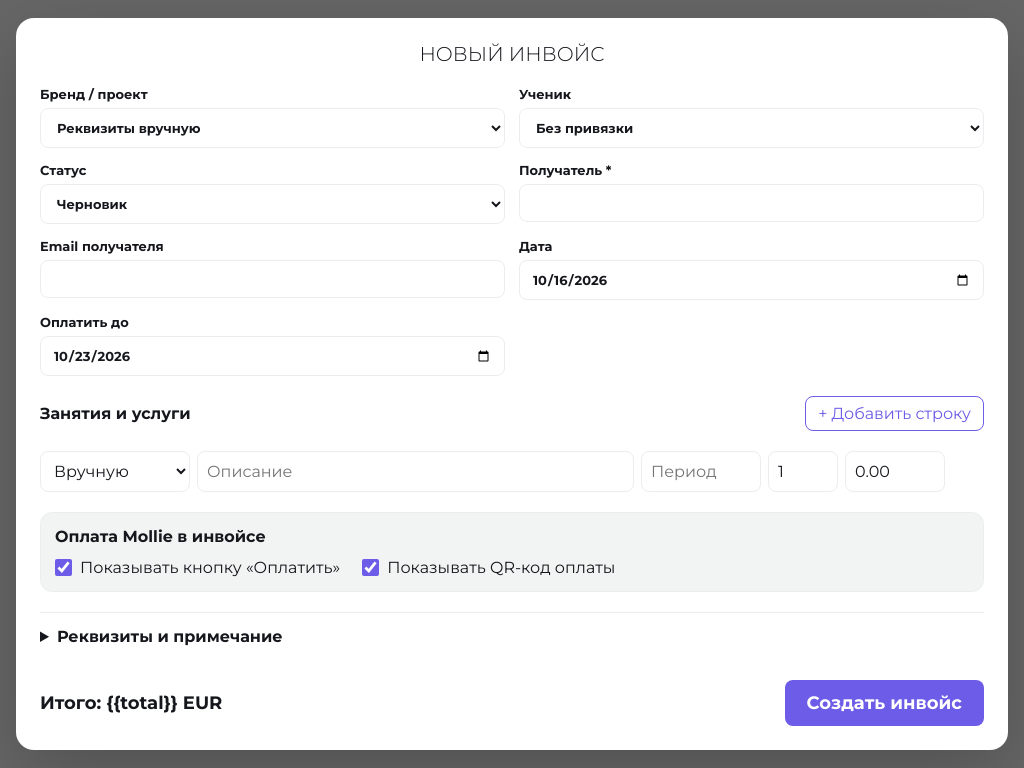
Test: CreateInvoiceModal › selecting a client fills the recipient name and email
The width and height of the screenshot is (1024, 768).
Select "Ivan Petrov" in the dropdown labelled "Ученик" at (752, 128), box [519,108,984,148]
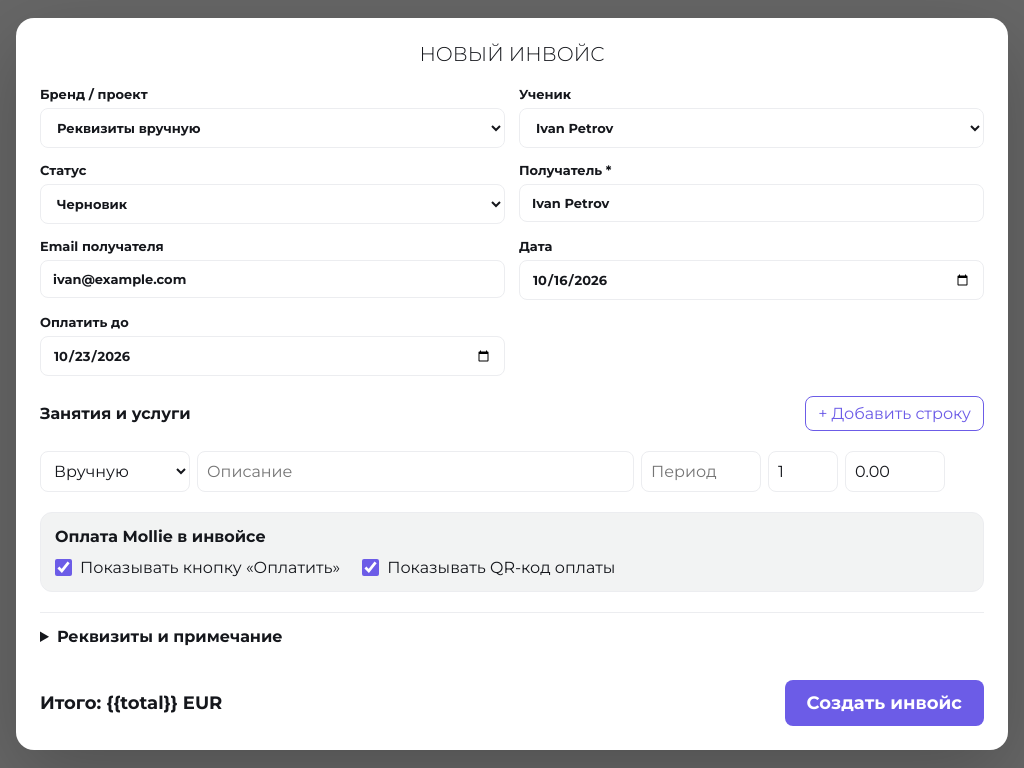
Check: the field labelled "Получатель *" holds "Ivan Petrov", box [519,184,984,222]
Check: the field labelled "Email получателя" holds "ivan@example.com", box [40,260,505,298]
